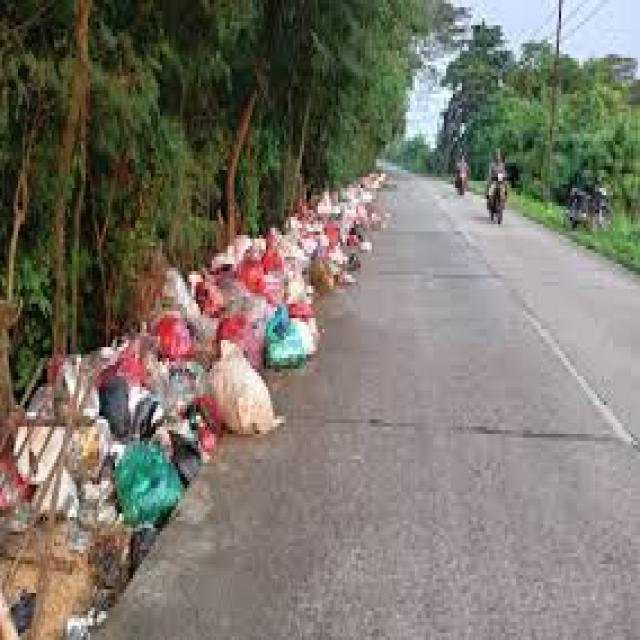trash: (24, 219, 370, 513)
